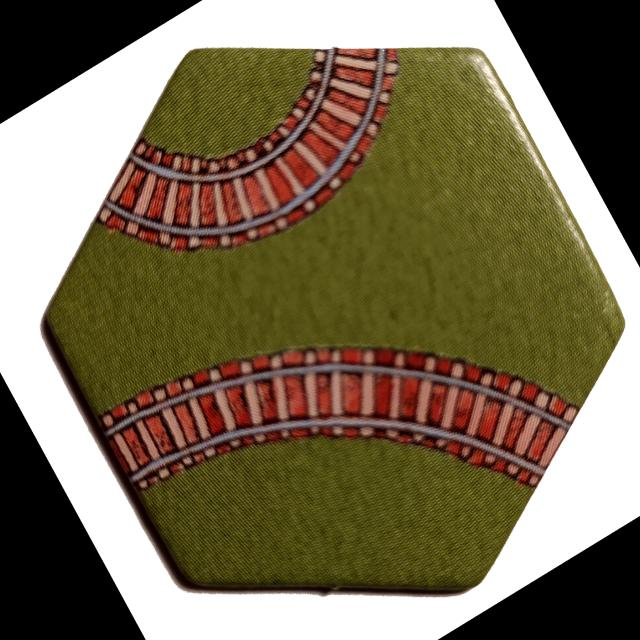15_5: (38, 47, 623, 596)
